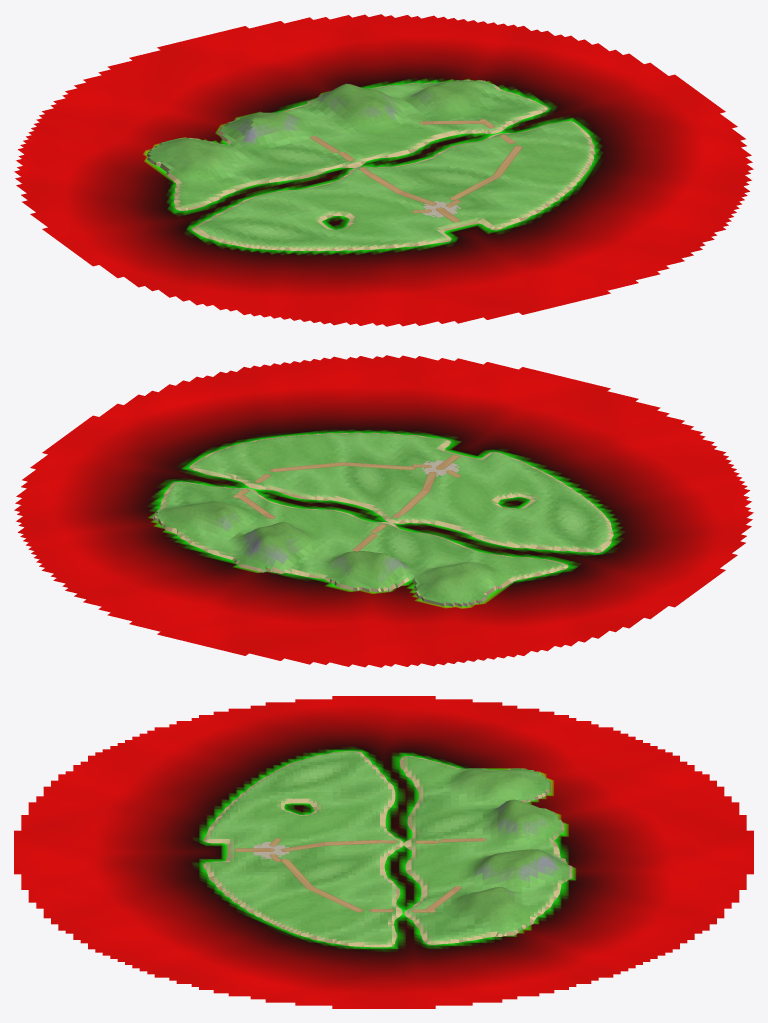
File: zone_willow.glb
The picture shows the model from 3 angles, top to bottom: view 1: azimuth 30°, elevation 25°; view 2: azimuth 150°, elevation 25°; view 3: azimuth 270°, elevation 25°; orthographic projection.
Parts seen in each view (by area): view 1: water, terrain_1_1, terrain_1_1__lod, terrain_0_1__lod, terrain_0_1, terrain_2_1__lod, terrain_2_1, terrain_1_2, terrain_1_0, terrain_1_2__lod, terrain_1_0__lod, paths (+7 smaller); view 2: water, terrain_1_1, terrain_1_1__lod, terrain_0_1__lod, terrain_0_1, terrain_2_1__lod, terrain_1_0, terrain_2_1, terrain_1_0__lod, terrain_1_2, terrain_1_2__lod, terrain_0_0 (+7 smaller); view 3: water, terrain_1_1, terrain_1_1__lod, terrain_0_1__lod, terrain_2_1__lod, terrain_2_1, terrain_0_1, terrain_1_0, terrain_1_0__lod, terrain_1_2, terrain_1_2__lod, paths (+7 smaller).
Part boxes in pixels (x1=…): water: x1=14, y1=14, x2=753, y2=326; terrain_1_1: x1=251, y1=111, x2=516, y2=226; terrain_1_1__lod: x1=252, y1=112, x2=514, y2=225; terrain_0_1__lod: x1=167, y1=153, x2=347, y2=248; terrain_0_1: x1=170, y1=152, x2=332, y2=247; terrain_2_1__lod: x1=420, y1=91, x2=595, y2=181; terrain_2_1: x1=426, y1=91, x2=594, y2=183; terrain_1_2: x1=348, y1=186, x2=545, y2=247; terrain_1_0: x1=220, y1=83, x2=414, y2=152; terrain_1_2__lod: x1=352, y1=183, x2=546, y2=249; terrain_1_0__lod: x1=220, y1=85, x2=419, y2=151; paths: x1=310, y1=119, x2=522, y2=222; water: x1=14, y1=355, x2=753, y2=667; terrain_1_1: x1=256, y1=453, x2=516, y2=565; terrain_1_1__lod: x1=251, y1=454, x2=516, y2=565; terrain_0_1__lod: x1=420, y1=496, x2=613, y2=587; terrain_0_1: x1=421, y1=499, x2=613, y2=583; terrain_2_1__lod: x1=160, y1=437, x2=344, y2=523; terrain_1_0: x1=216, y1=522, x2=419, y2=591; terrain_2_1: x1=162, y1=437, x2=347, y2=519; terrain_1_0__lod: x1=213, y1=524, x2=415, y2=592; terrain_1_2: x1=355, y1=433, x2=544, y2=495; terrain_1_2__lod: x1=349, y1=433, x2=547, y2=492; terrain_0_0: x1=394, y1=565, x2=500, y2=606; water: x1=14, y1=696, x2=753, y2=1008; terrain_1_1: x1=285, y1=808, x2=482, y2=892; terrain_1_1__lod: x1=285, y1=808, x2=482, y2=893; terrain_0_1__lod: x1=285, y1=751, x2=482, y2=810; terrain_2_1__lod: x1=285, y1=892, x2=482, y2=946; terrain_2_1: x1=285, y1=891, x2=482, y2=947; terrain_0_1: x1=285, y1=751, x2=482, y2=810; terrain_1_0: x1=482, y1=799, x2=569, y2=892; terrain_1_0__lod: x1=482, y1=804, x2=572, y2=893; terrain_1_2: x1=203, y1=808, x2=285, y2=893; terrain_1_2__lod: x1=203, y1=808, x2=285, y2=893; paths: x1=235, y1=838, x2=486, y2=912.
Size of the model in its own units: 300 by 13.73 by 300.
